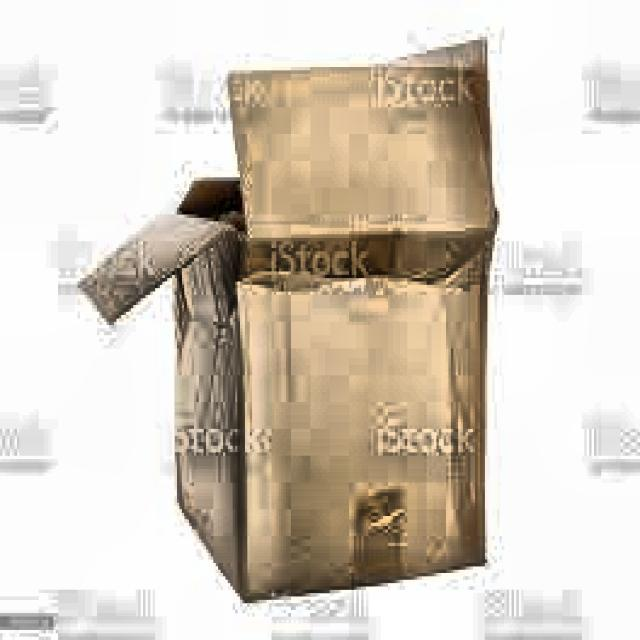Cardbox: (74, 31, 514, 622)
